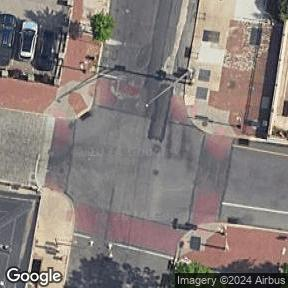vegetation: (87, 11, 115, 43), (175, 263, 210, 273)
